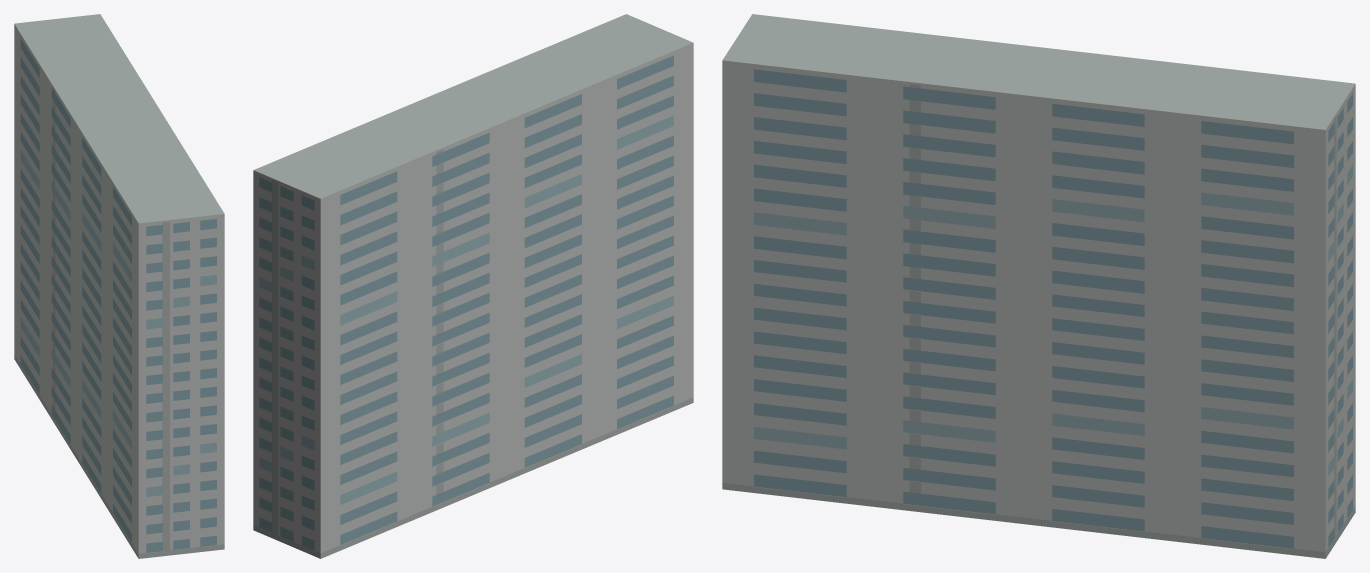
The model's file is residential-3b38f19e-f45c-404d-bc1e-9285d9af8f20.glb.
The picture shows the model from 3 angles, left to right: view 1: azimuth 30°, elevation 25°; view 2: azimuth 150°, elevation 25°; view 3: azimuth 270°, elevation 25°; orthographic projection. The views are drawn at different scales.
Parts seen in each view (by area): view 1: residential-3b38f19e-f45c-404d-bc1e-9285d9af8f20.tmp; view 2: residential-3b38f19e-f45c-404d-bc1e-9285d9af8f20.tmp; view 3: residential-3b38f19e-f45c-404d-bc1e-9285d9af8f20.tmp.
Part boxes in pixels (x1,y1,x2,y2): residential-3b38f19e-f45c-404d-bc1e-9285d9af8f20.tmp: (14, 14, 224, 558); residential-3b38f19e-f45c-404d-bc1e-9285d9af8f20.tmp: (253, 14, 693, 558); residential-3b38f19e-f45c-404d-bc1e-9285d9af8f20.tmp: (722, 14, 1355, 558).
Bounding box in the file's own units: 27.84 × 48 × 64.23.
